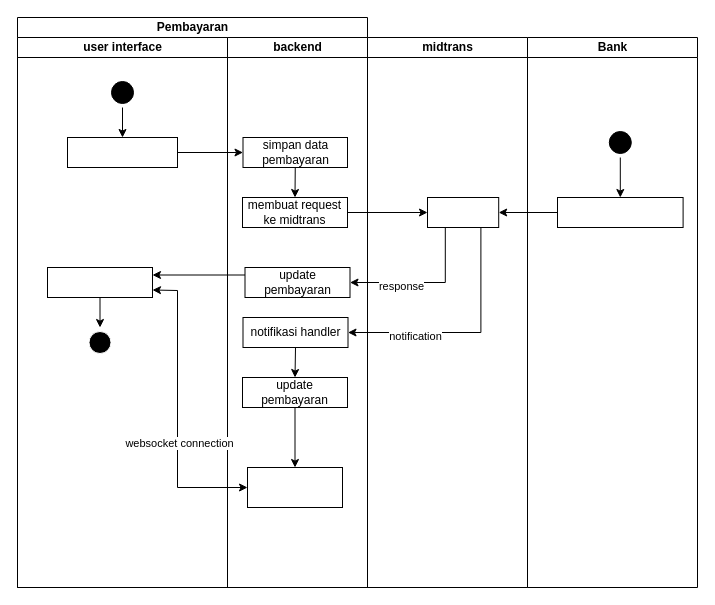
This 715x605 diagram has some shape labels left out. Here are the shapes that lost their labels. From the top down, the centre of each, then its label:
At point (122, 152): "pembayaran page".
At point (462, 212): "core api".
At point (619, 212): "Bank virtual account".
At point (99, 282): "invoice pembayaran page".
At point (294, 487): "kirim data via websocket".
